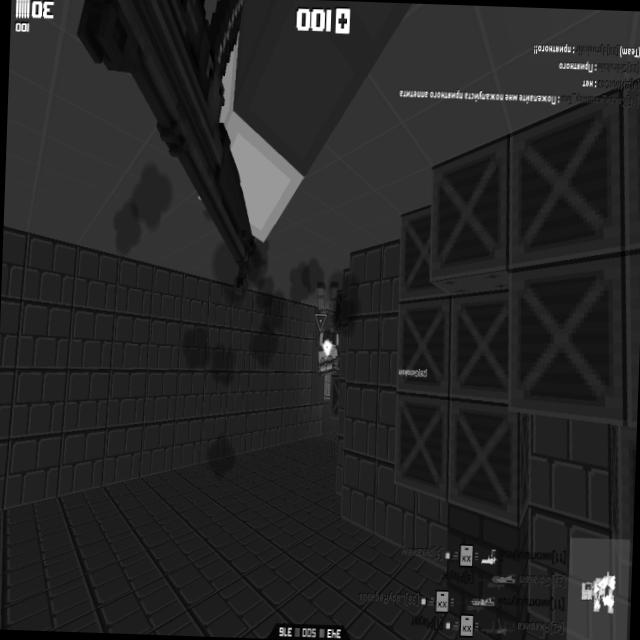enemy: (312, 278, 341, 381)
